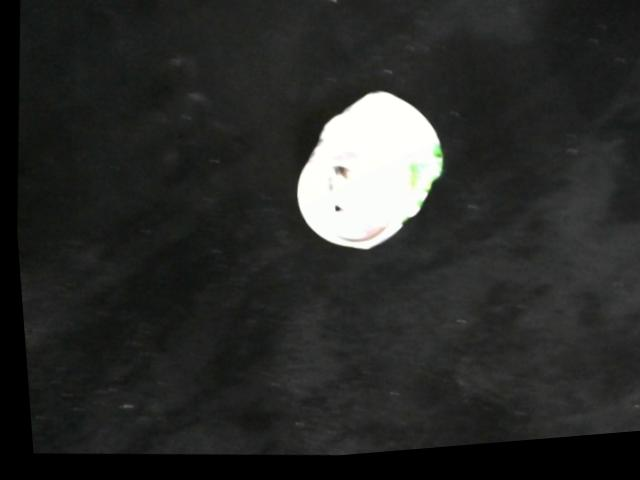can: (290, 81, 443, 260)
